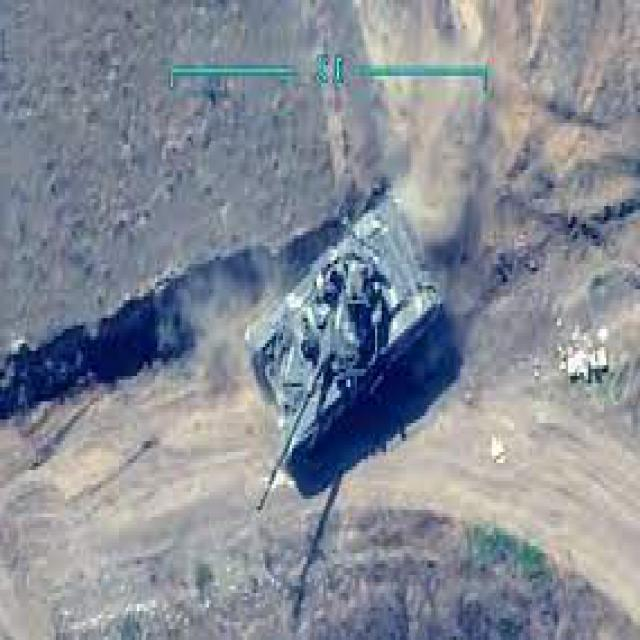Tanks: (244, 177, 446, 514)
